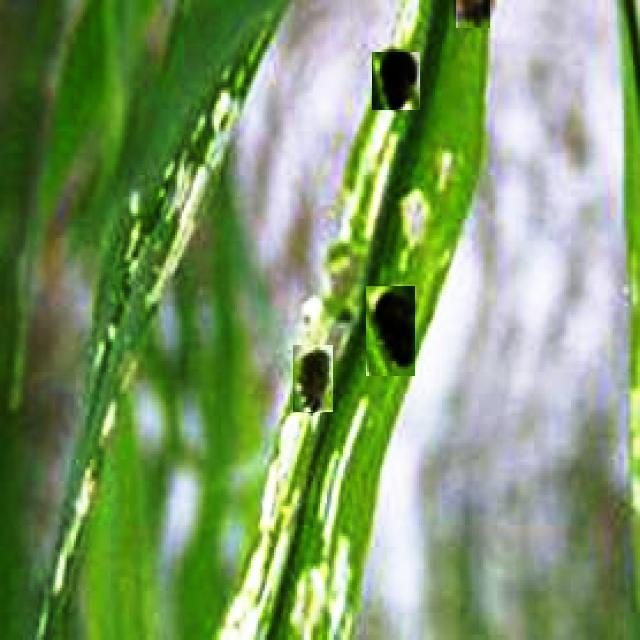rice-bug: (366, 286, 415, 376), (372, 52, 420, 110), (293, 345, 333, 412), (456, 0, 490, 28)
